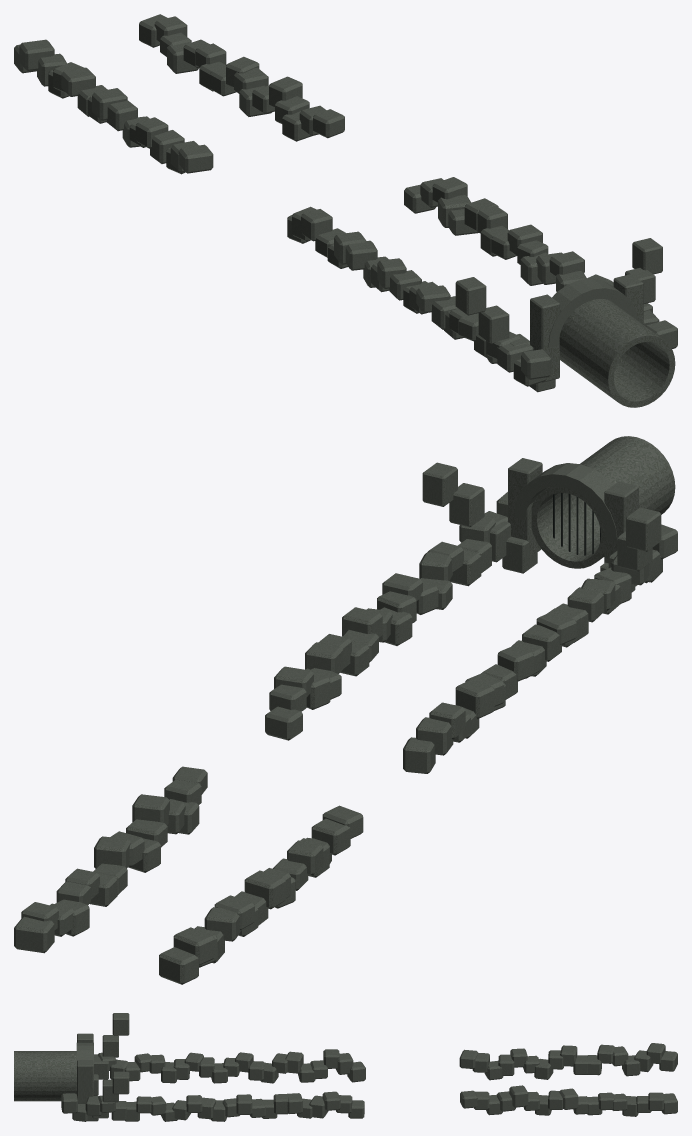
File: level_camp_creek_engineering.glb
3 renders of one model, top to bottom at view 1: azimuth 30°, elevation 25°; view 2: azimuth 150°, elevation 25°; view 3: azimuth 270°, elevation 25°, orthographic. The views are drawn at different scales.
Visible parts, largest first — view 1: level_camp_creek_engineering; view 2: level_camp_creek_engineering; view 3: level_camp_creek_engineering.
Part boxes in pixels (x1,y1,x2,y2): level_camp_creek_engineering: (14,14,677,407); level_camp_creek_engineering: (14,436,677,984); level_camp_creek_engineering: (14,1013,677,1121).
Size of the model in its own units: 6.57 by 2.79 by 26.07.
Materials: 2 (2 with a texture image).
